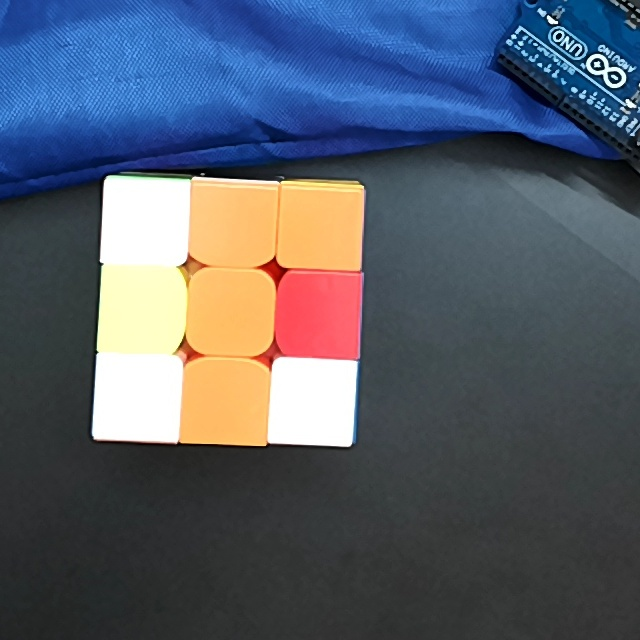tile: (99, 360, 175, 435), (109, 183, 183, 258), (284, 279, 357, 353), (284, 191, 356, 263), (197, 187, 271, 257), (195, 277, 265, 348), (278, 368, 348, 438), (191, 369, 262, 438), (108, 272, 174, 345)
